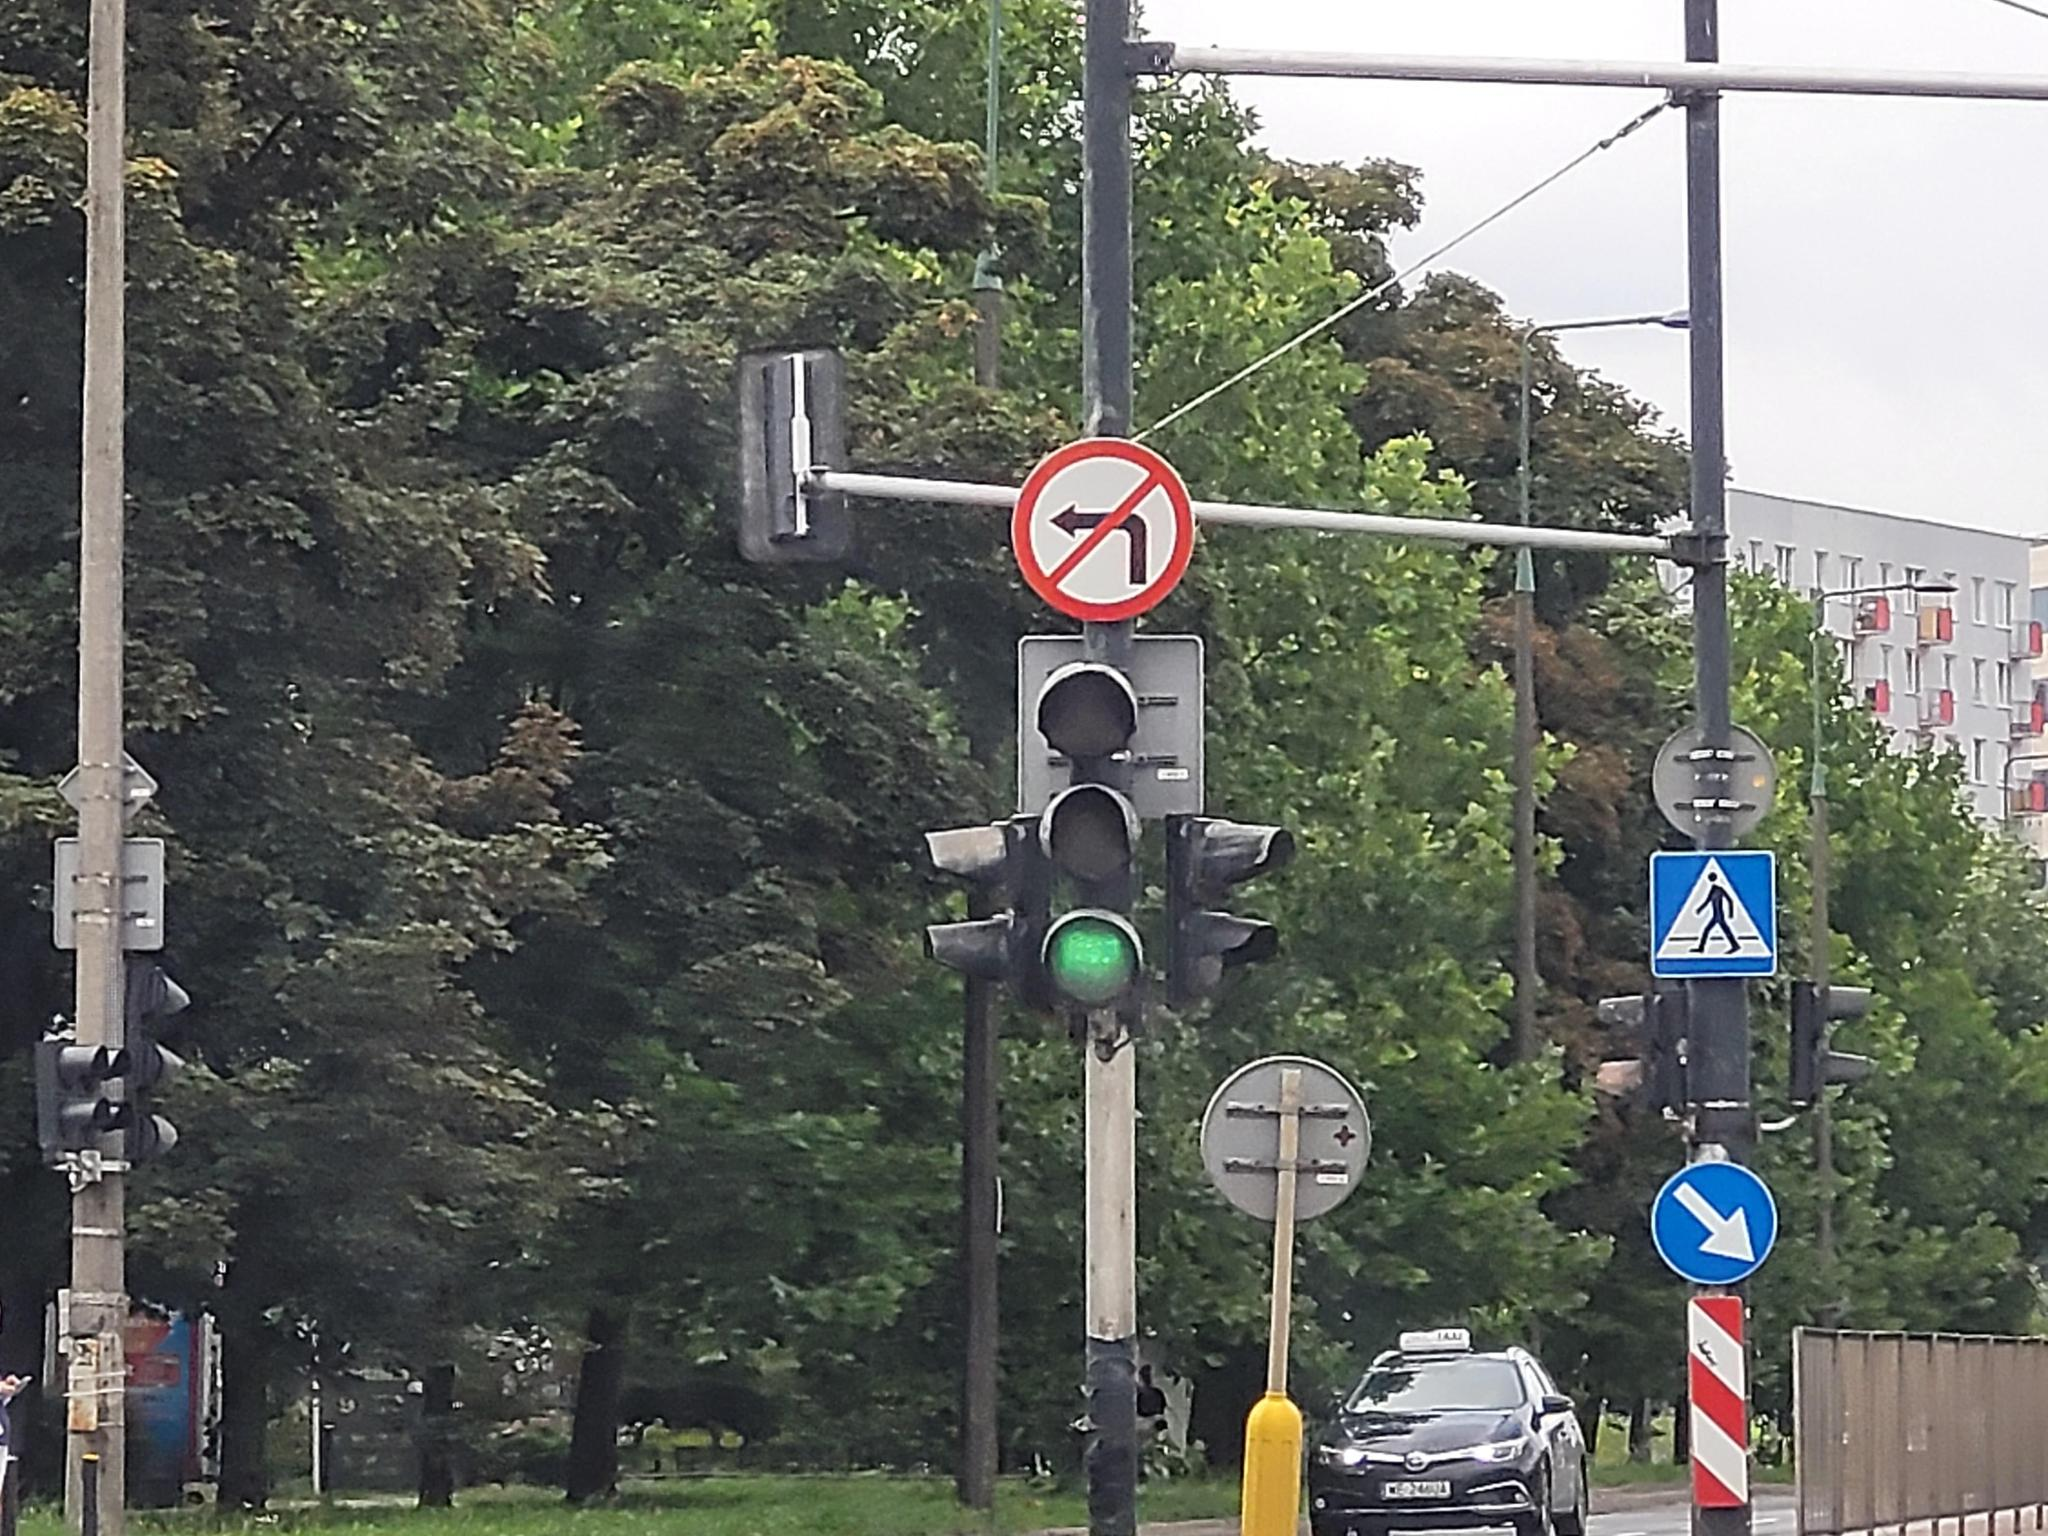information: (1653, 854, 1772, 976)
mandatory: (1651, 1160, 1777, 1286)
prohibitory: (1011, 437, 1195, 626)
